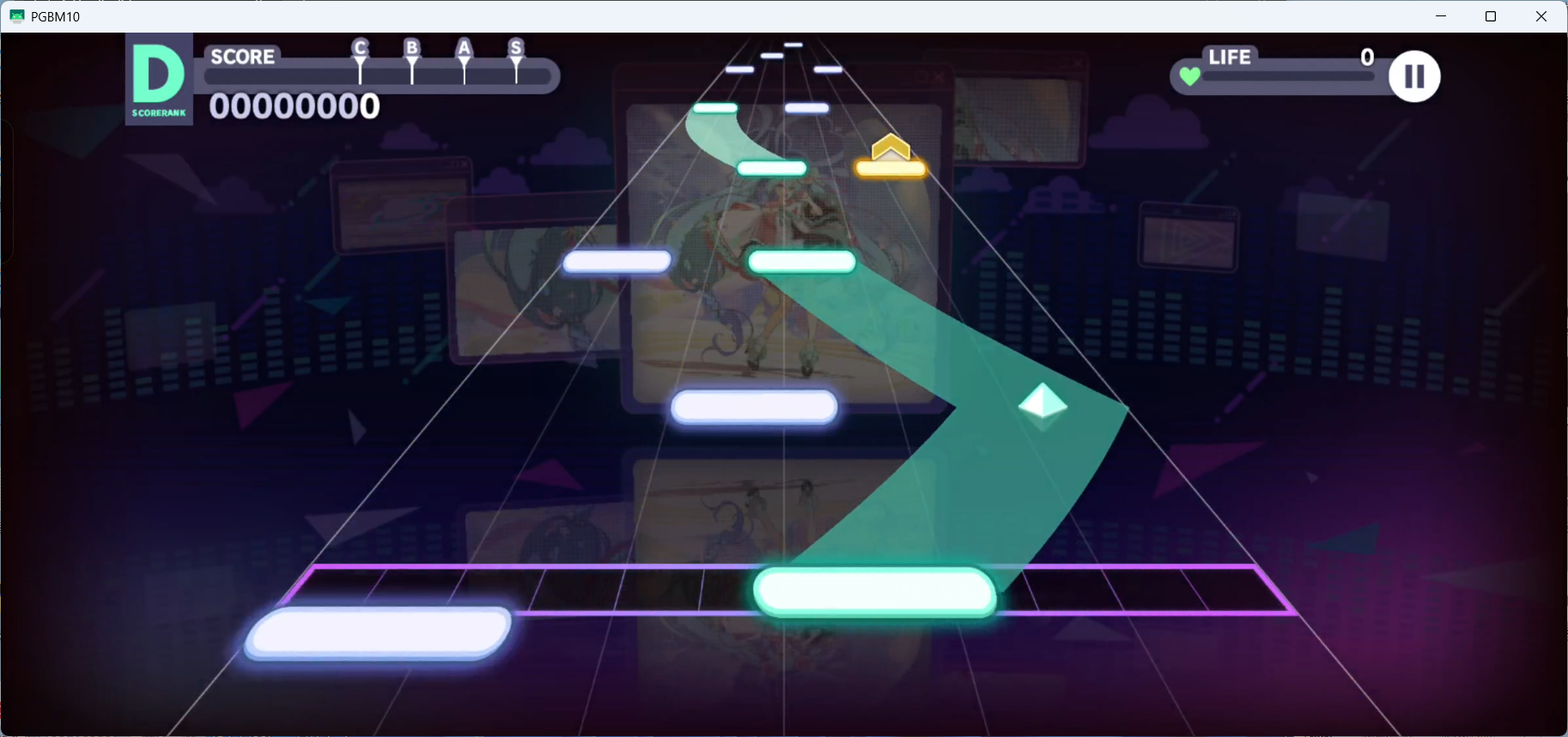flick: (872, 133, 910, 162)
hold: (761, 275, 1129, 567), (685, 115, 788, 160)
sweep: (1017, 382, 1067, 432)
tap: (244, 607, 512, 663), (752, 567, 999, 620), (672, 390, 838, 428), (563, 251, 672, 274), (749, 251, 855, 274), (856, 160, 926, 177), (738, 160, 806, 176), (692, 102, 737, 115), (784, 102, 829, 114), (725, 66, 754, 74), (813, 66, 843, 73), (760, 52, 784, 59), (783, 42, 803, 47)
